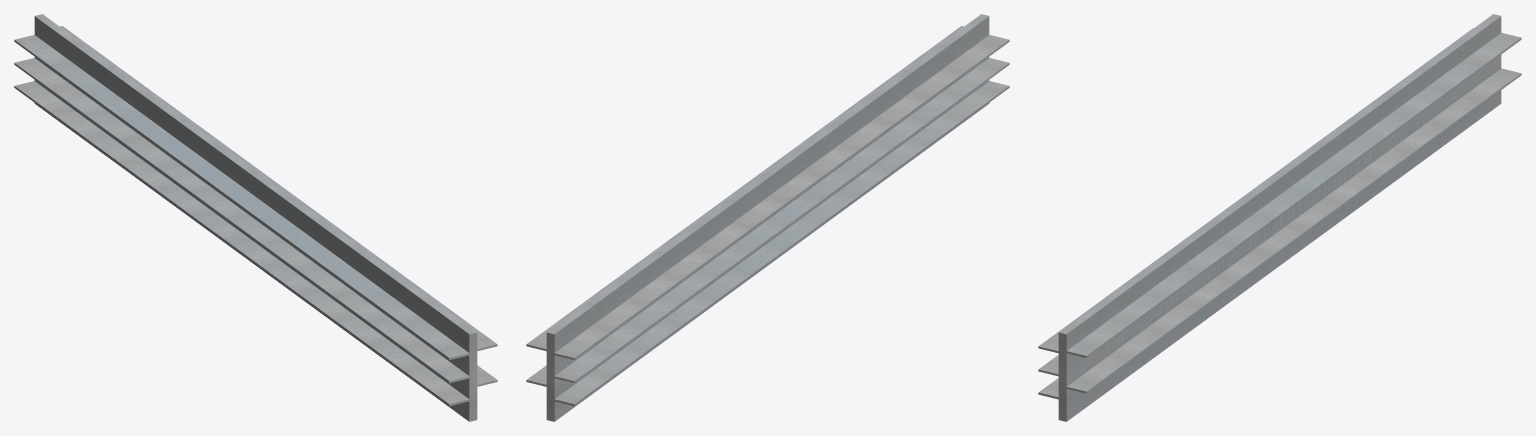
File: twoSidedShelf32.fbx
3 renders of one model, left to right at view 1: azimuth 30°, elevation 25°; view 2: azimuth 150°, elevation 25°; view 3: azimuth 330°, elevation 25°, orthographic.
Visible parts, largest first — view 1: Model; view 2: Model; view 3: Model.
Part boxes in pixels (box(x1,y1,x2,y2)): Model: box(14, 14, 497, 421); Model: box(526, 14, 1009, 421); Model: box(1038, 14, 1521, 421).
Bounding box in the file's own units: 1.2 × 2.09 × 18.8.
